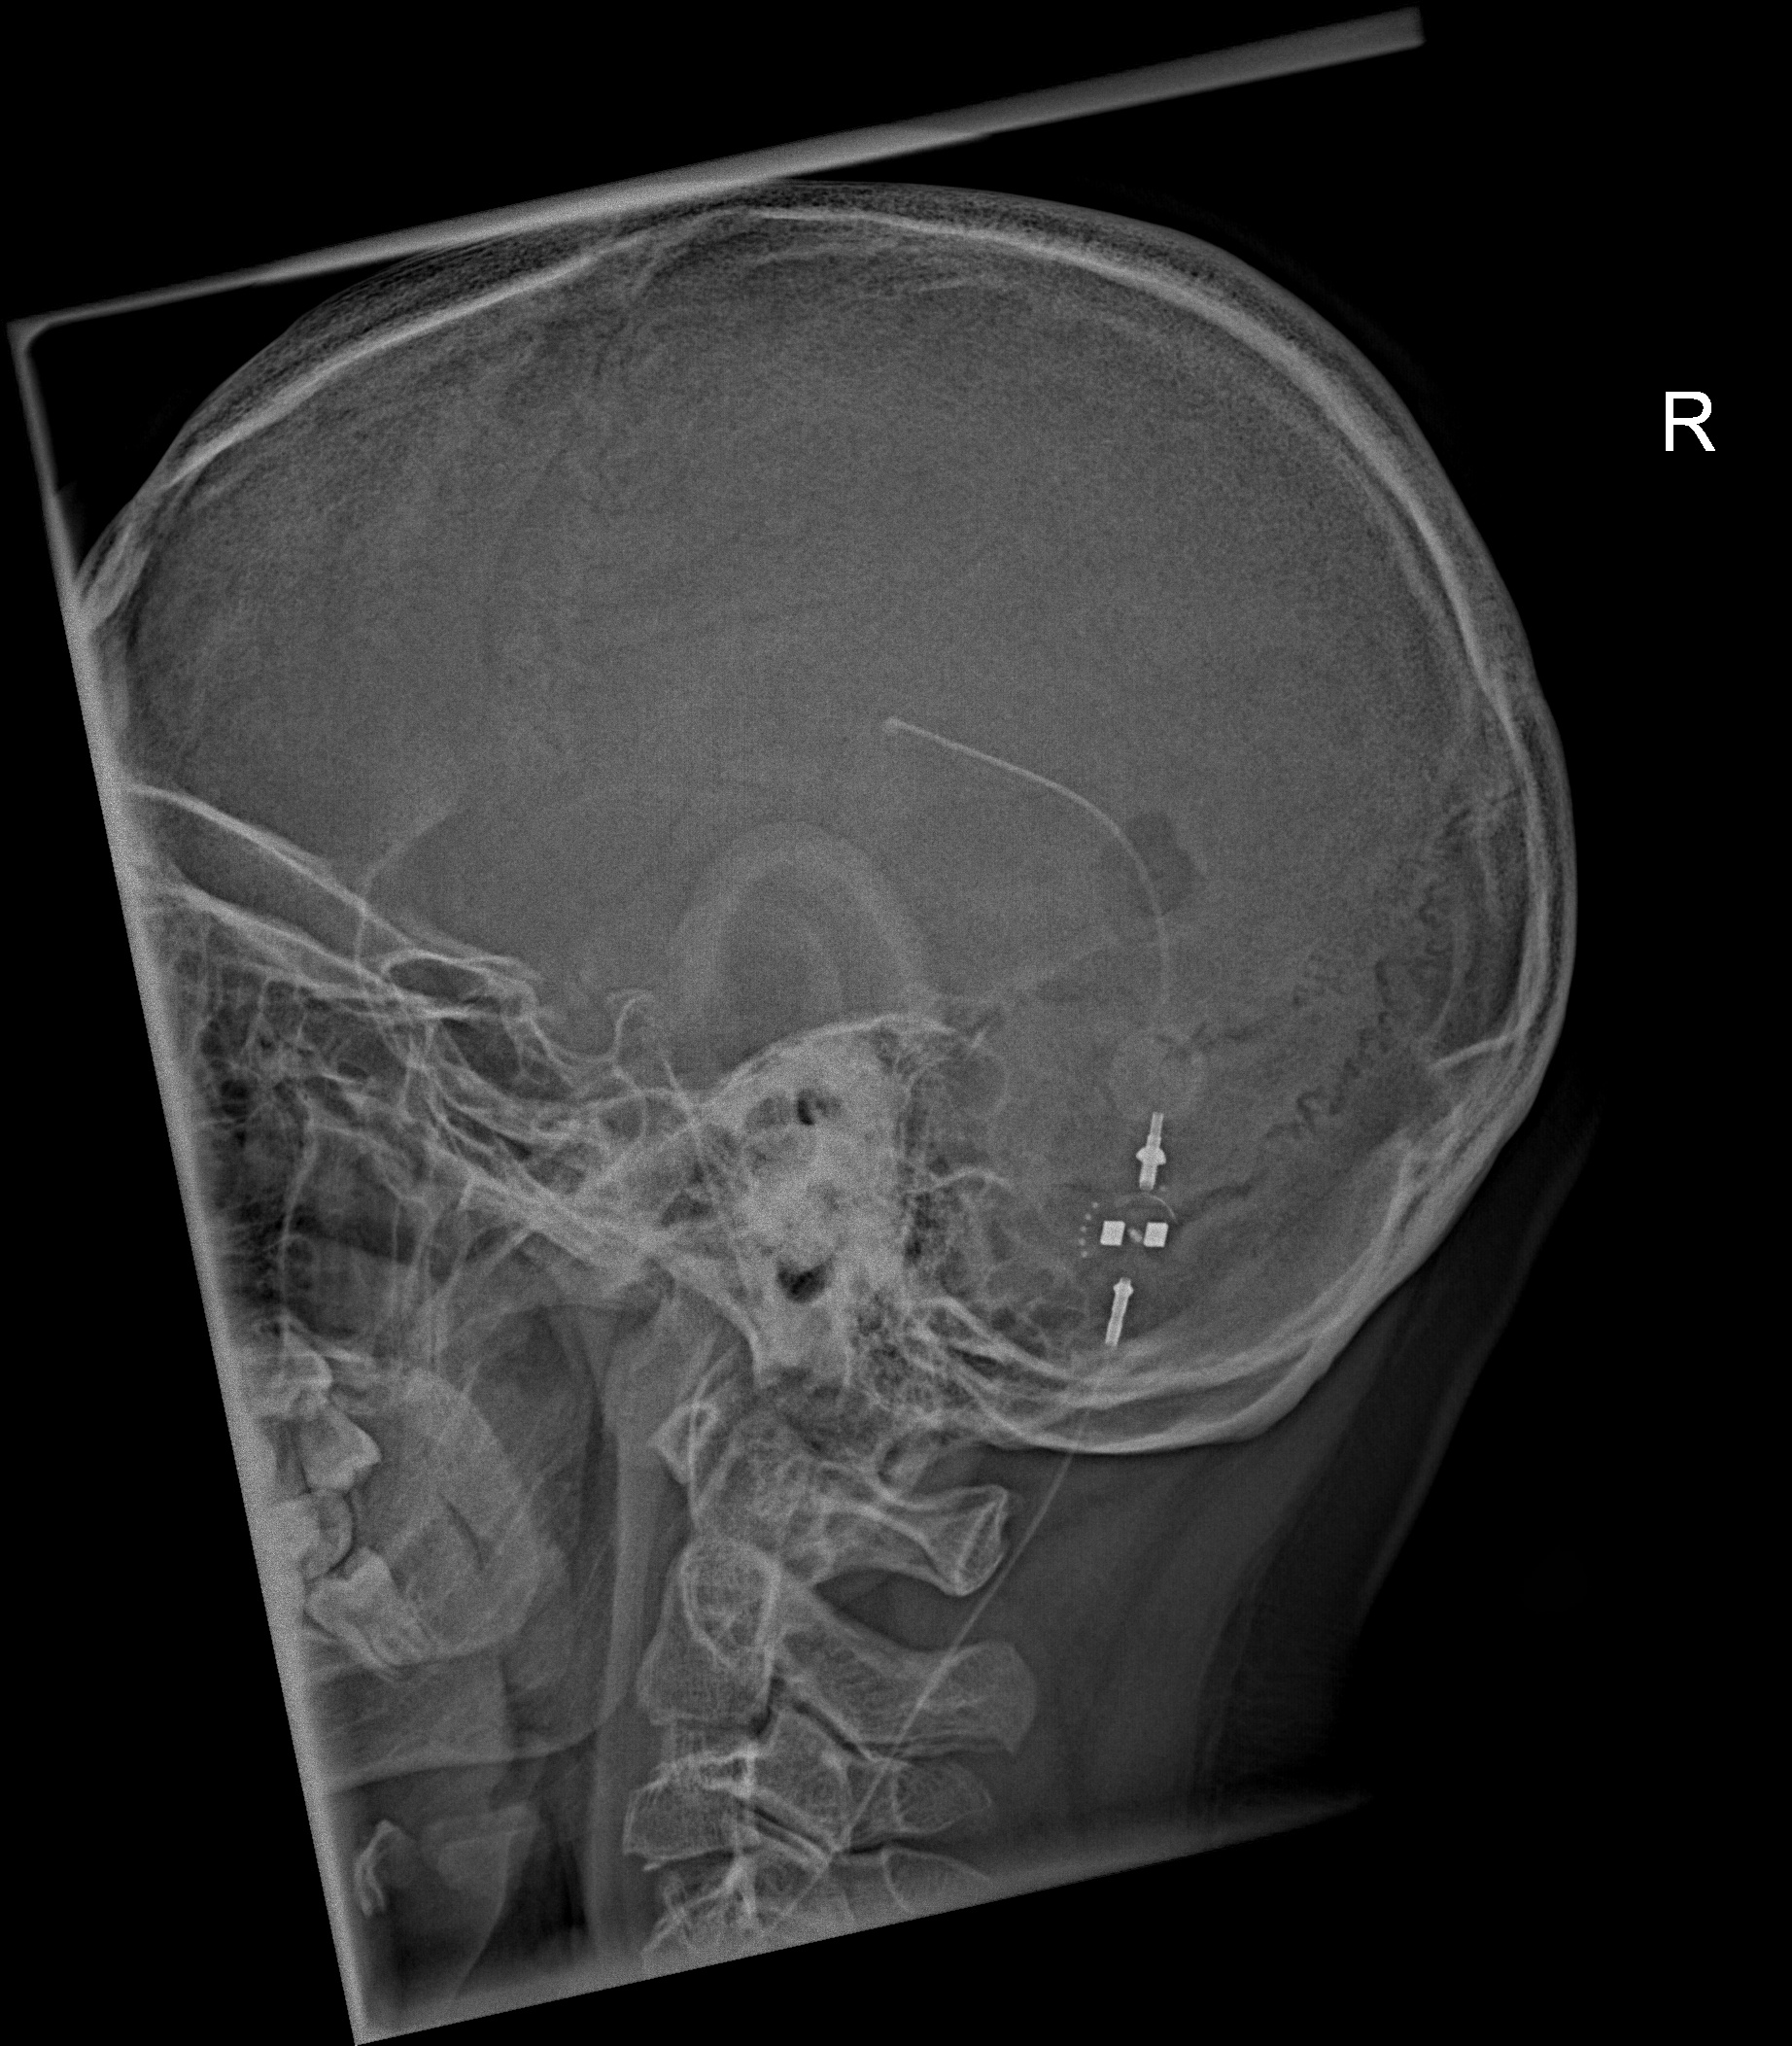Sophysa Polaris: (1065, 1167, 1199, 1307)
